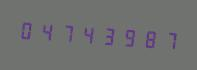eight: (137, 22, 156, 54)
four: (37, 15, 56, 47), (77, 18, 96, 49)
nine: (117, 21, 136, 52)
seven: (57, 17, 76, 48), (157, 24, 176, 55)
three: (97, 19, 116, 51)
zero: (17, 14, 36, 45)
